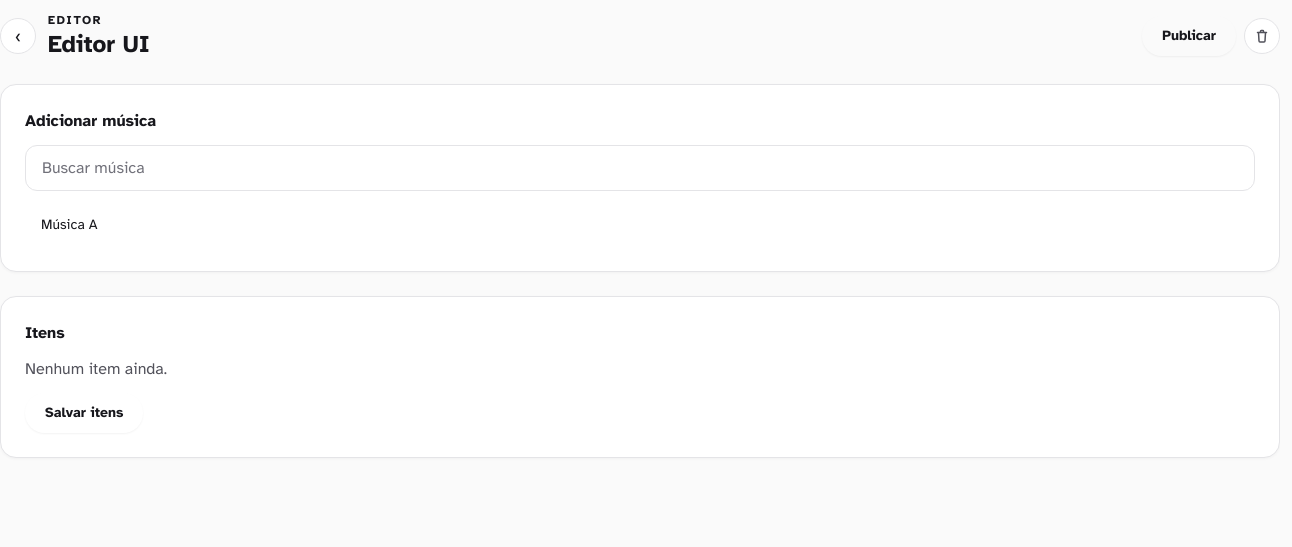
Scenario: SetlistEditor › auto-selects a single chart when adding a song
Step 1. Click the button "Música A" → (69, 224), box x1=29 y1=203 x2=620 y2=247
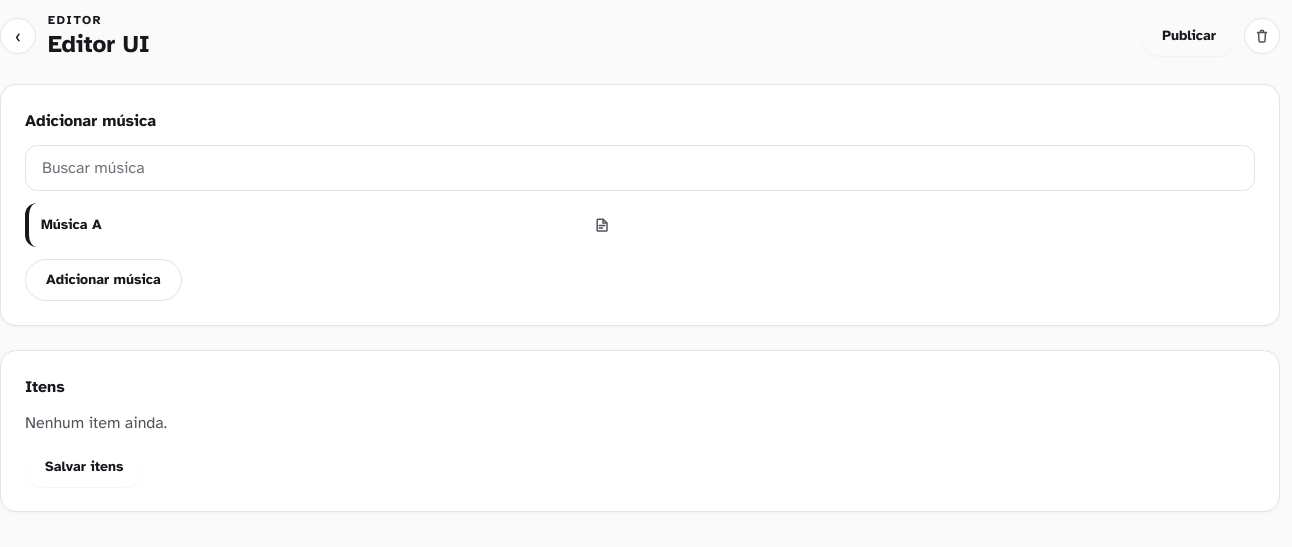
Expected: the button "Música A" is pressed, x1=29 y1=203 x2=580 y2=247
Step 2. Click the button "Adicionar música" → (103, 280), box x1=25 y1=259 x2=182 y2=301
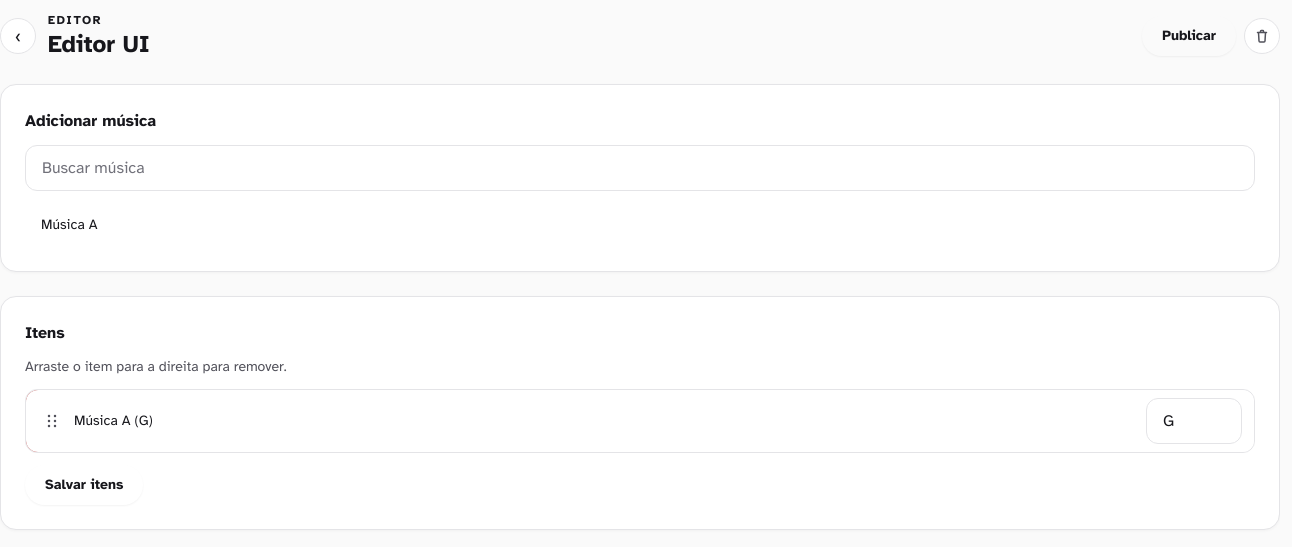
Expected: the field named "Tom de Música A (G)" is shown, x1=1146 y1=398 x2=1242 y2=444
